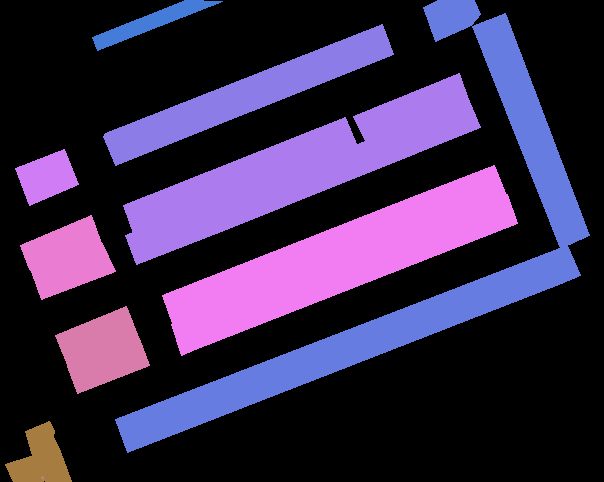parkingspot: (115, 245, 580, 452), (125, 100, 480, 264), (171, 194, 517, 355), (162, 165, 506, 326), (103, 24, 393, 165), (472, 13, 589, 248), (123, 117, 357, 233), (353, 73, 469, 141), (92, 0, 222, 50), (55, 306, 139, 367), (31, 243, 115, 299), (20, 215, 101, 271), (67, 338, 149, 393), (15, 149, 78, 205), (25, 421, 71, 481), (423, 0, 480, 41), (5, 455, 43, 482)
